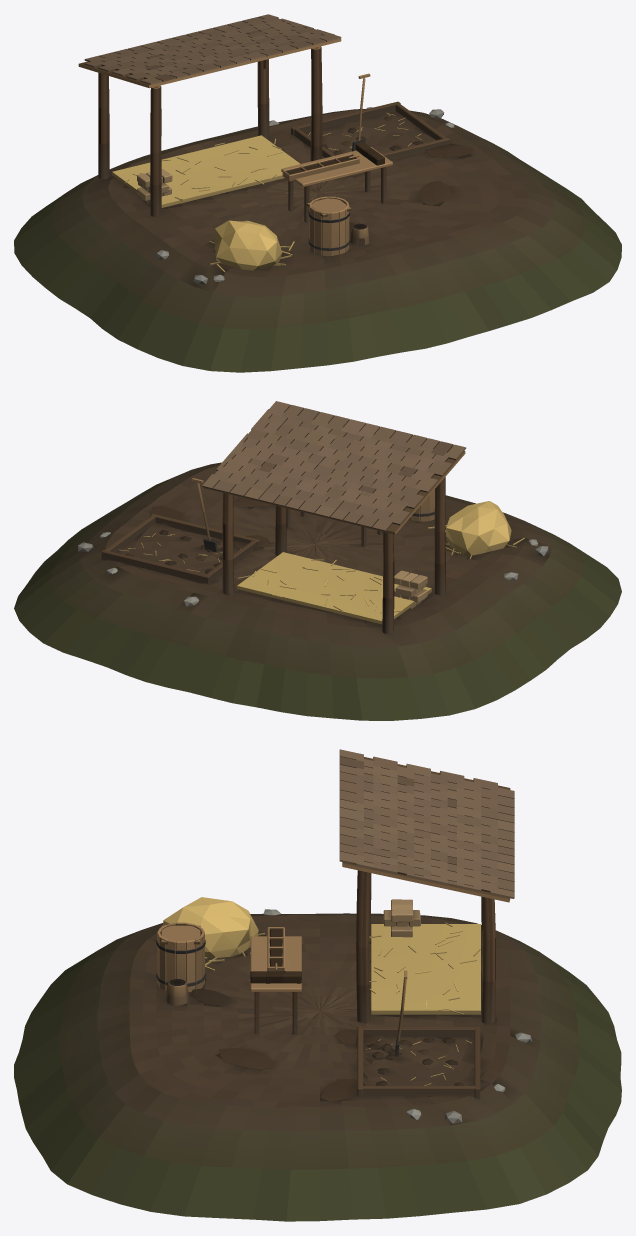
Rendered from camur.glb.
The picture shows the model from 3 angles, top to bottom: view 1: azimuth 30°, elevation 25°; view 2: azimuth 150°, elevation 25°; view 3: azimuth 270°, elevation 25°; orthographic projection. The views are drawn at different scales.
Parts seen in each view (by area): view 1: stone-ground-001, shingle-001, thatch-floor-001, thatch-straw-002, wood-003, plank-pit-001, plank-work-002, log-001, log-003, log-002, dark-slop-001, log-004 (+4 smaller); view 2: stone-ground-001, shingle-001, thatch-floor-001, thatch-straw-002, plank-pit-001, log-001, log-004, log-002, plaster-stack-001, dark-slop-001, stone-found-002, log-003 (+2 smaller); view 3: stone-ground-001, shingle-001, thatch-floor-001, thatch-straw-002, plank-pit-001, wood-003, dark-slop-001, plank-work-002, log-003, log-004, plaster-stack-001, dark-fresh-003 (+1 smaller).
Part boxes in pixels (bbox=[...]): stone-ground-001: bbox=[14, 109, 621, 372]; shingle-001: bbox=[78, 14, 341, 88]; thatch-floor-001: bbox=[112, 135, 300, 207]; thatch-straw-002: bbox=[209, 220, 294, 272]; wood-003: bbox=[306, 196, 351, 256]; plank-pit-001: bbox=[291, 101, 449, 159]; plank-work-002: bbox=[281, 147, 392, 222]; log-001: bbox=[150, 85, 161, 217]; log-003: bbox=[310, 46, 322, 161]; log-002: bbox=[98, 73, 109, 179]; dark-slop-001: bbox=[349, 143, 473, 236]; log-004: bbox=[257, 59, 269, 139]; stone-ground-001: bbox=[14, 462, 621, 720]; shingle-001: bbox=[202, 401, 466, 534]; thatch-floor-001: bbox=[237, 552, 431, 624]; thatch-straw-002: bbox=[428, 501, 524, 559]; plank-pit-001: bbox=[101, 514, 259, 583]; log-001: bbox=[434, 477, 445, 595]; log-004: bbox=[222, 493, 234, 594]; log-002: bbox=[382, 532, 394, 633]; plaster-stack-001: bbox=[394, 570, 427, 608]; dark-slop-001: bbox=[150, 497, 273, 548]; stone-found-002: bbox=[78, 532, 548, 606]; log-003: bbox=[275, 505, 286, 555]; stone-ground-001: bbox=[14, 913, 621, 1221]; shingle-001: bbox=[339, 749, 514, 902]; thatch-floor-001: bbox=[369, 922, 480, 1014]; thatch-straw-002: bbox=[163, 897, 265, 971]; plank-pit-001: bbox=[357, 1026, 480, 1099]; wood-003: bbox=[156, 922, 205, 991]; dark-slop-001: bbox=[190, 988, 378, 1101]; plank-work-002: bbox=[250, 936, 301, 1034]; log-003: bbox=[356, 870, 370, 1022]; log-004: bbox=[481, 897, 495, 1023]; plaster-stack-001: bbox=[383, 899, 420, 937]; dark-fresh-003: bbox=[250, 929, 301, 983].
Bounding box in the file's own units: 9.26 × 3.55 × 8.31.
